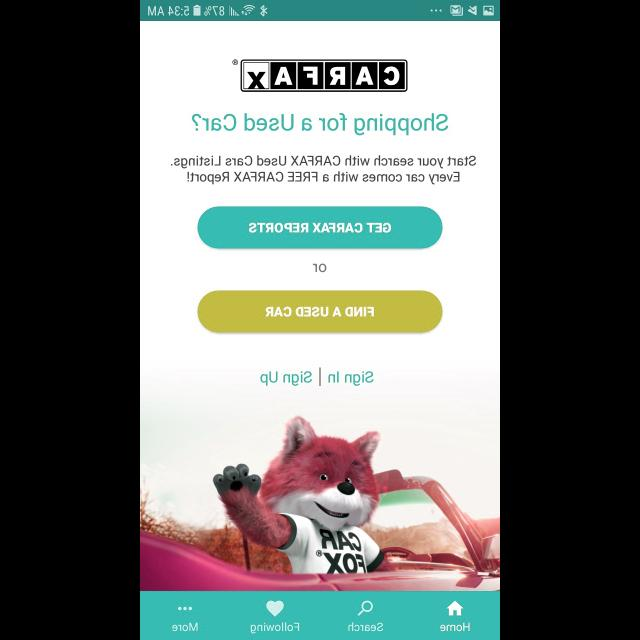icon: (266, 600, 284, 616), (446, 600, 464, 616), (357, 600, 373, 616), (178, 606, 192, 610)
image: (140, 415, 500, 591), (232, 59, 408, 92)
text: (170, 155, 476, 185), (192, 112, 448, 136), (260, 370, 312, 386), (327, 372, 373, 386), (250, 622, 300, 634), (348, 622, 382, 632), (440, 622, 470, 632), (172, 622, 198, 632), (312, 263, 328, 273)
textbutton: (198, 207, 442, 249), (198, 291, 442, 333)
uppertaskbar: (140, 1, 500, 22)
